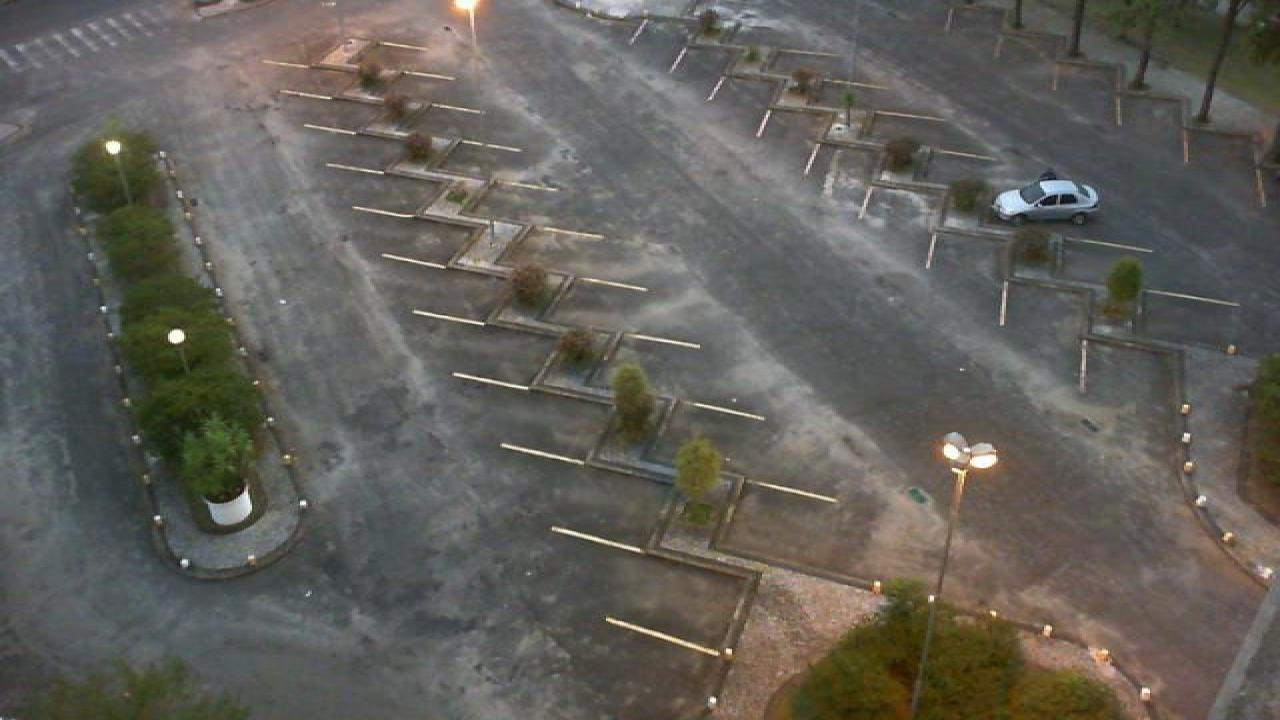Car: (988, 178, 1102, 225)
